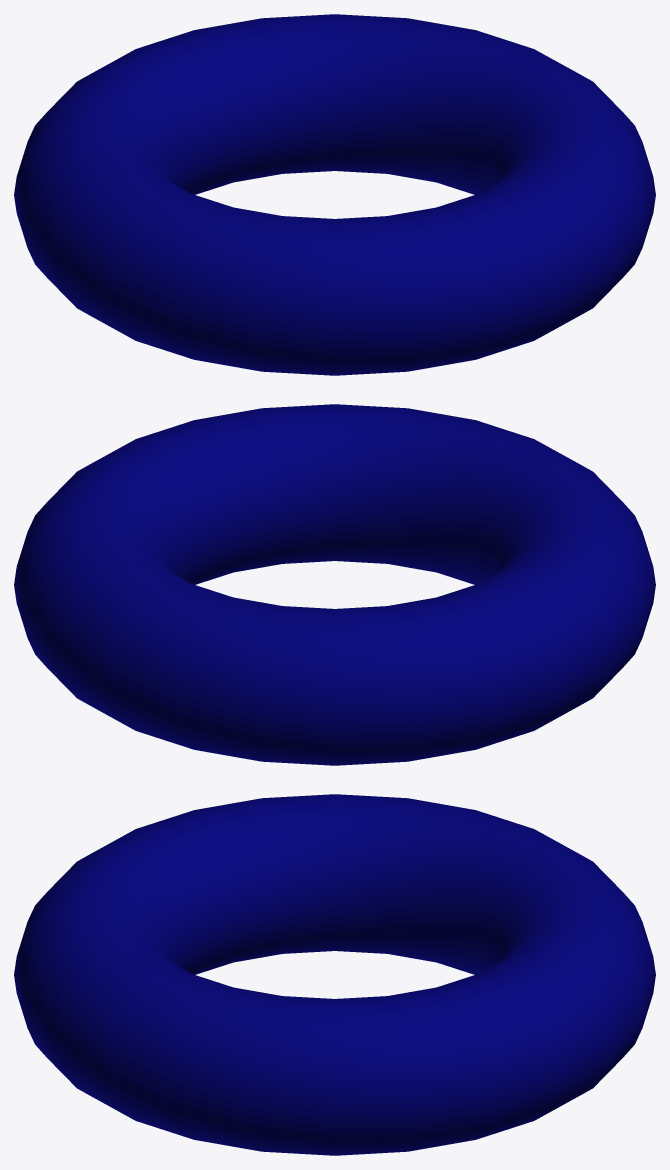
The model's file is anilloazulp.obj.
3 views of the same model, one above another, from view 1: azimuth 30°, elevation 25°; view 2: azimuth 150°, elevation 25°; view 3: azimuth 270°, elevation 25° (orthographic).
Parts seen in each view (by area): view 1: anilloazul; view 2: anilloazul; view 3: anilloazul.
Boxes of the visible parts, x1,y1,x2,y2 form: anilloazul: (14, 14, 655, 375); anilloazul: (14, 404, 655, 765); anilloazul: (14, 794, 655, 1155).
Size of the model in its own units: 0.7995 by 0.1961 by 0.7995.
Materials: 1 (1 with a texture image).
